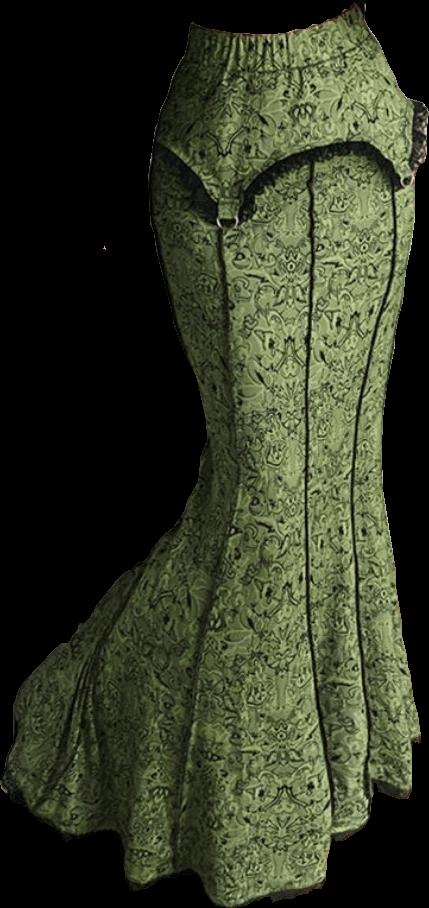Hemline: (0, 691, 428, 907), (151, 103, 426, 229)
Waistline: (179, 26, 378, 79), (189, 3, 361, 43)
